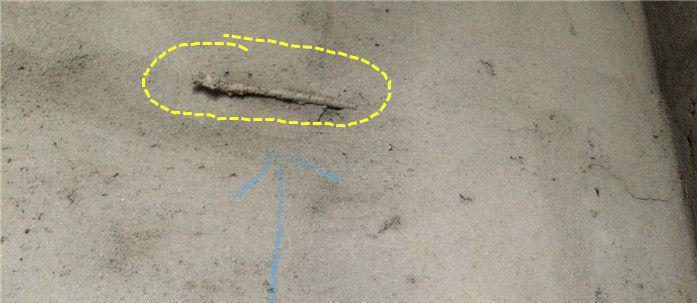Crack: (589, 162, 671, 204)
Spalling: (192, 79, 356, 113)
